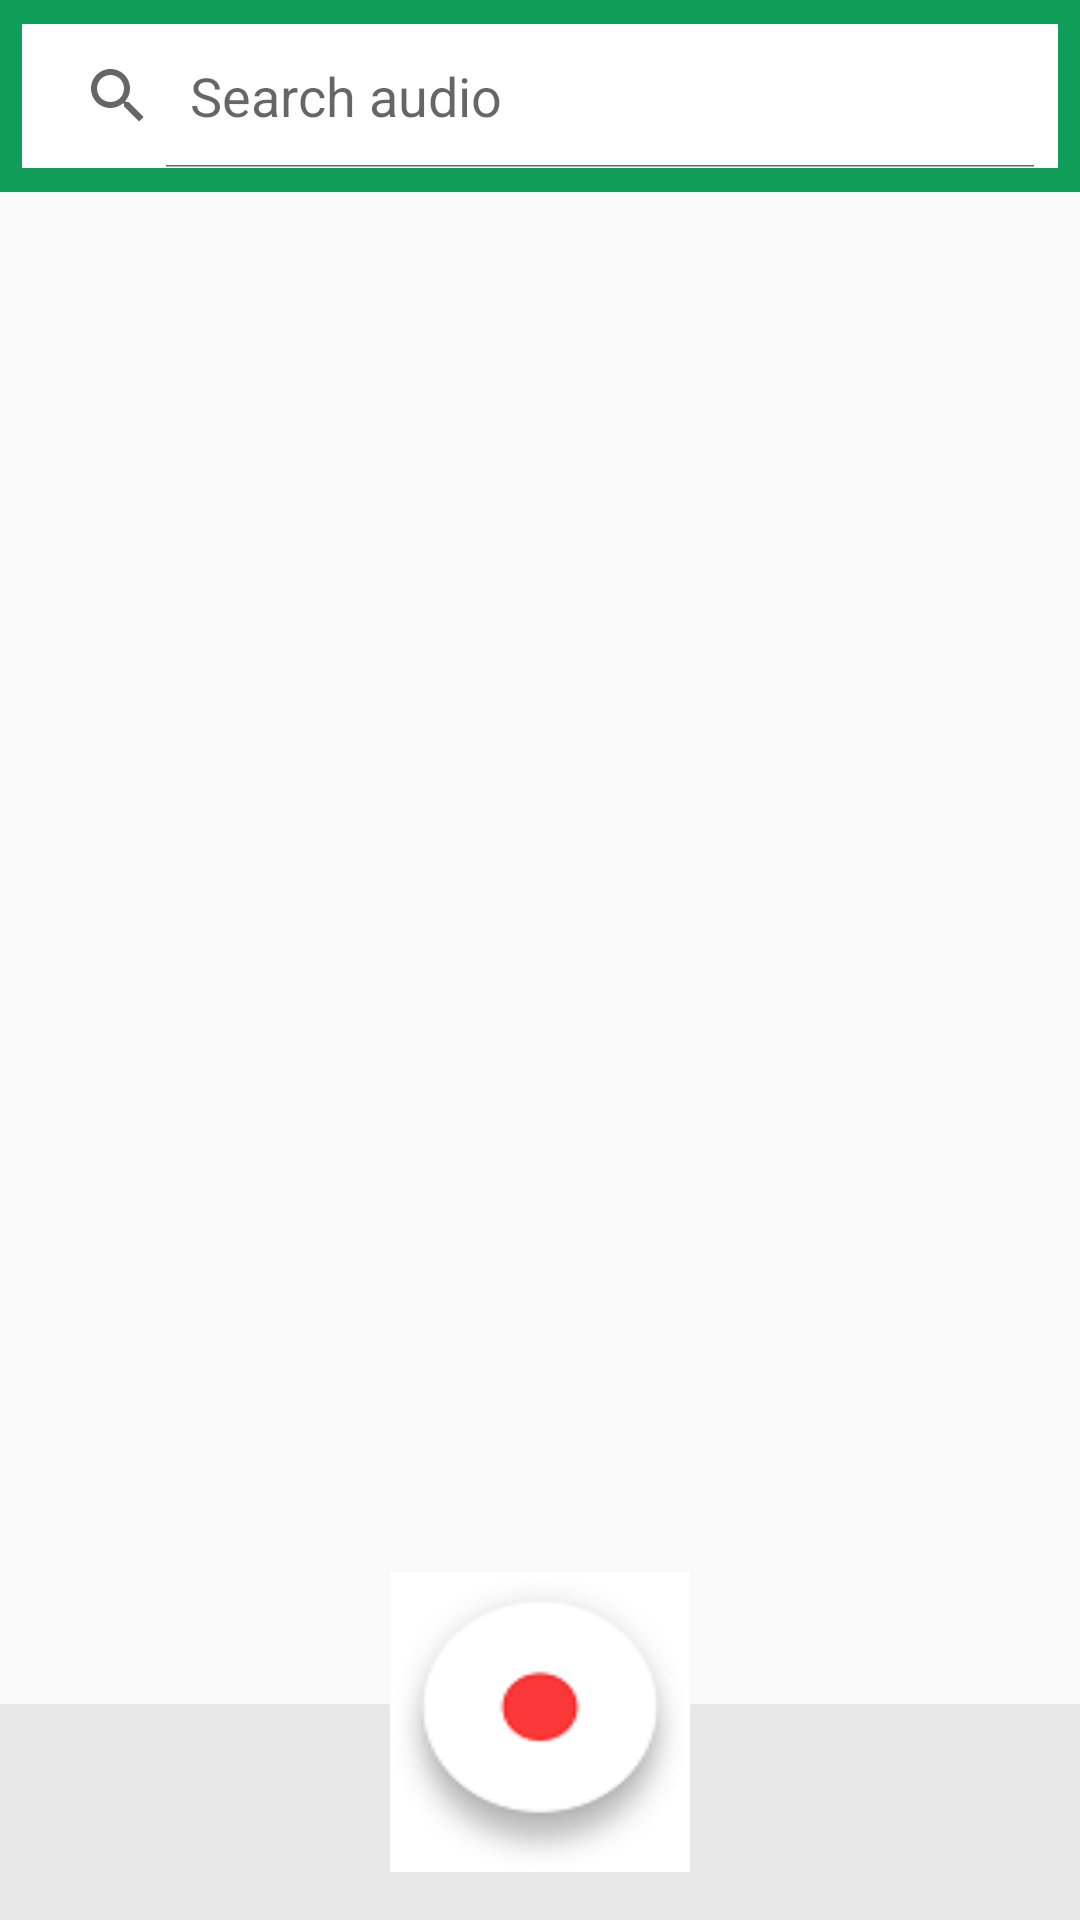

Icons on this 1080px×1920px Android screen, each with its box as (x1, y1, x2, y2):
buttonfab: (416, 1671, 664, 1845)
